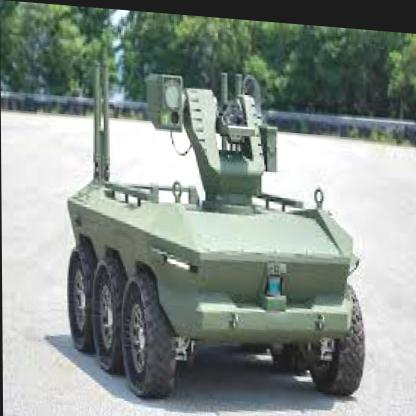UGV: (65, 59, 364, 411)
